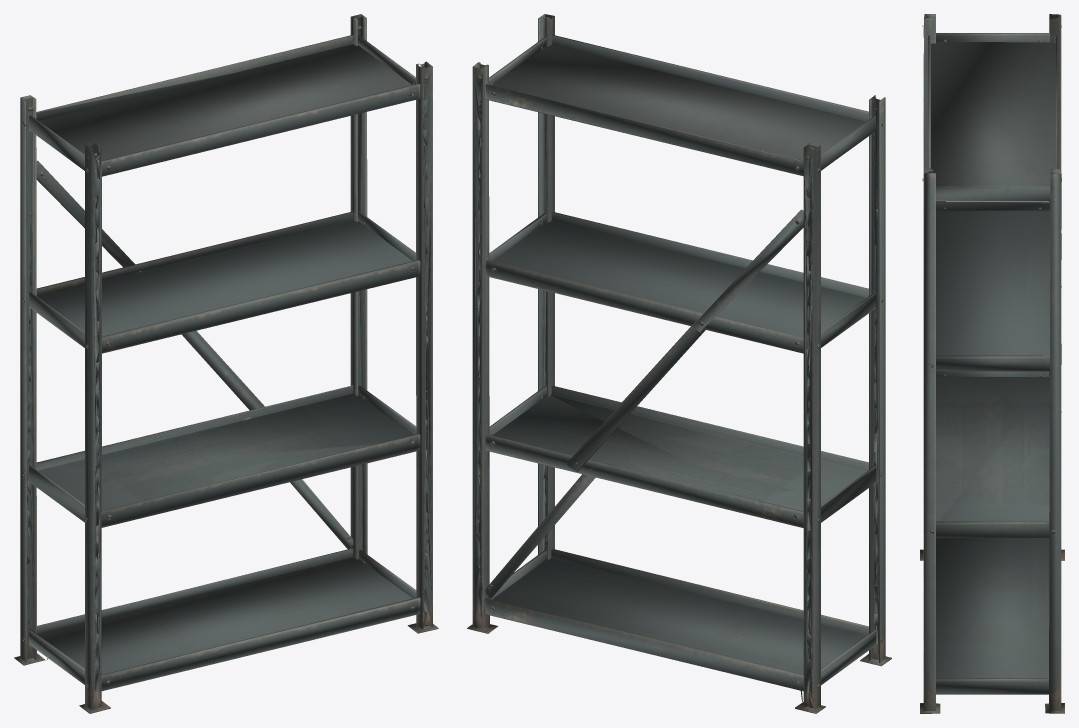
Rendered from shelf-t25.glb.
3 renders of one model, left to right at view 1: azimuth 30°, elevation 25°; view 2: azimuth 150°, elevation 25°; view 3: azimuth 270°, elevation 25°, orthographic. The views are drawn at different scales.
Visible parts, largest first — view 1: shelf-t25; view 2: shelf-t25; view 3: shelf-t25.
Boxes of the visible parts, <box> form: shelf-t25: <box>14,14,438,713</box>; shelf-t25: <box>467,14,891,713</box>; shelf-t25: <box>920,14,1064,713</box>.
Bounding box in the file's own units: 1.2 × 1.85 × 0.45.
1 material, 1 textured.
